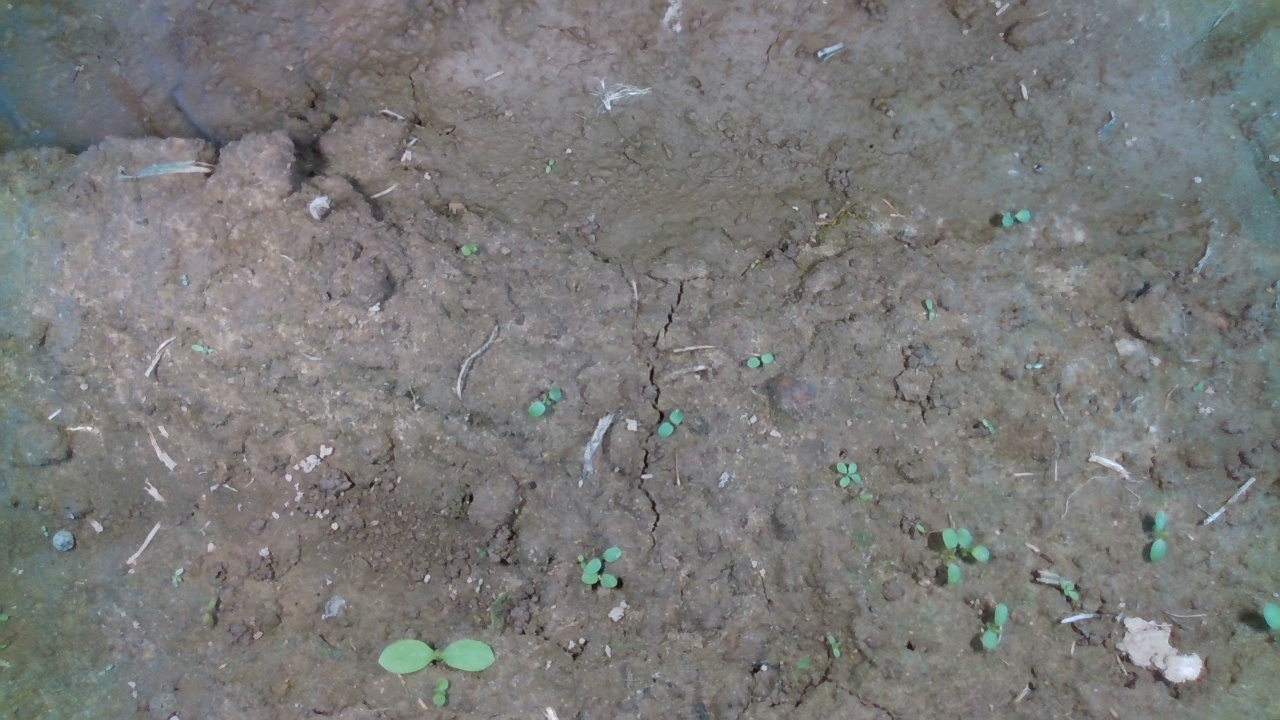weed: (654, 401, 695, 444), (831, 456, 863, 494), (429, 676, 462, 708), (746, 348, 781, 376), (1000, 203, 1031, 233), (529, 388, 558, 417), (457, 239, 486, 259), (35, 523, 53, 541)
